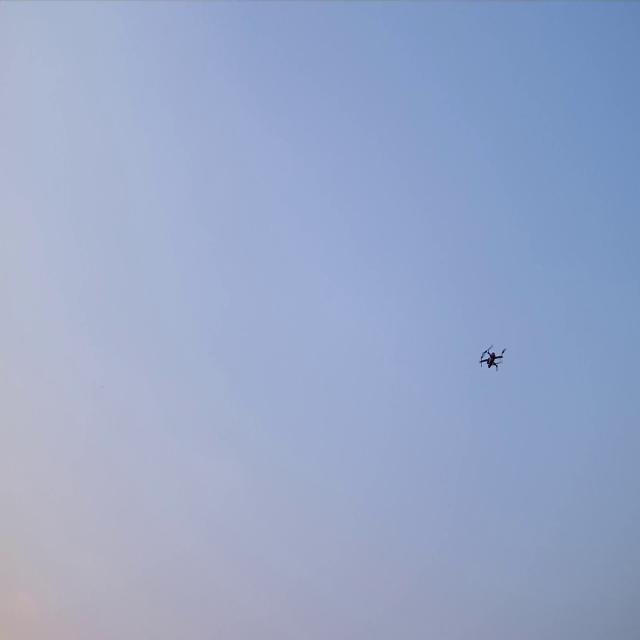UAV: (478, 342, 508, 373)
